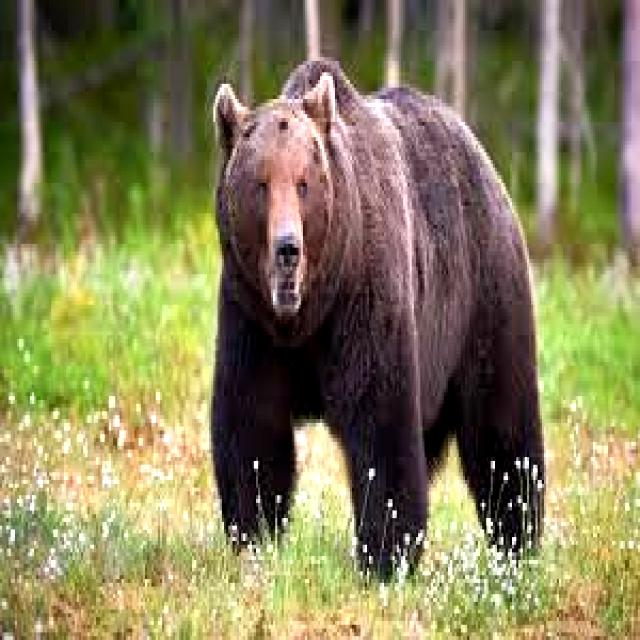bear: (215, 66, 531, 512)
